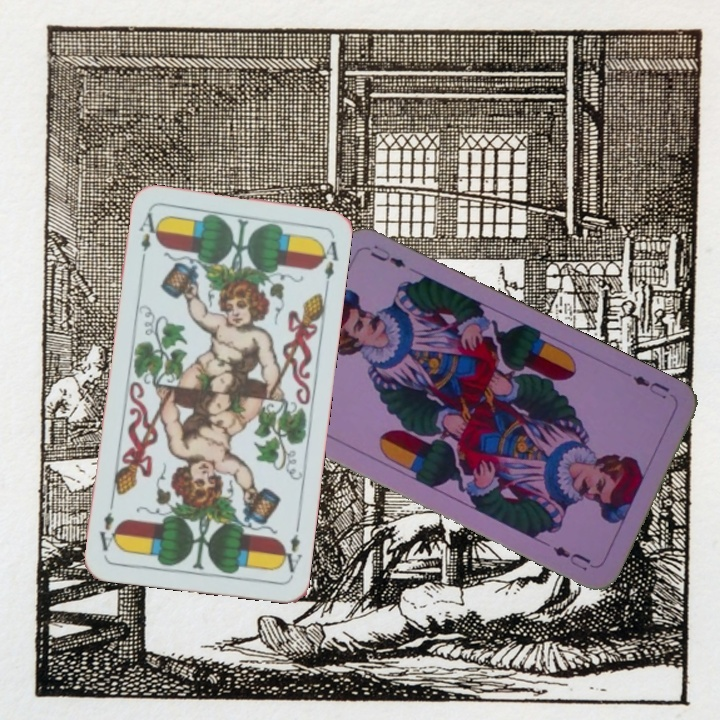EA: (275, 519, 305, 578), (135, 208, 157, 268)
EU: (628, 371, 672, 401)
